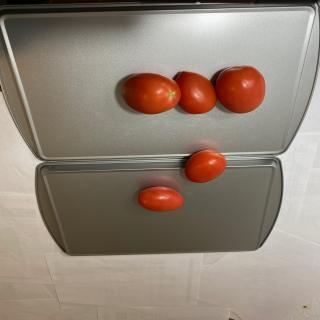Tomato: (121, 72, 181, 114), (216, 65, 266, 114), (175, 71, 217, 114), (184, 149, 227, 183), (138, 186, 185, 212)
